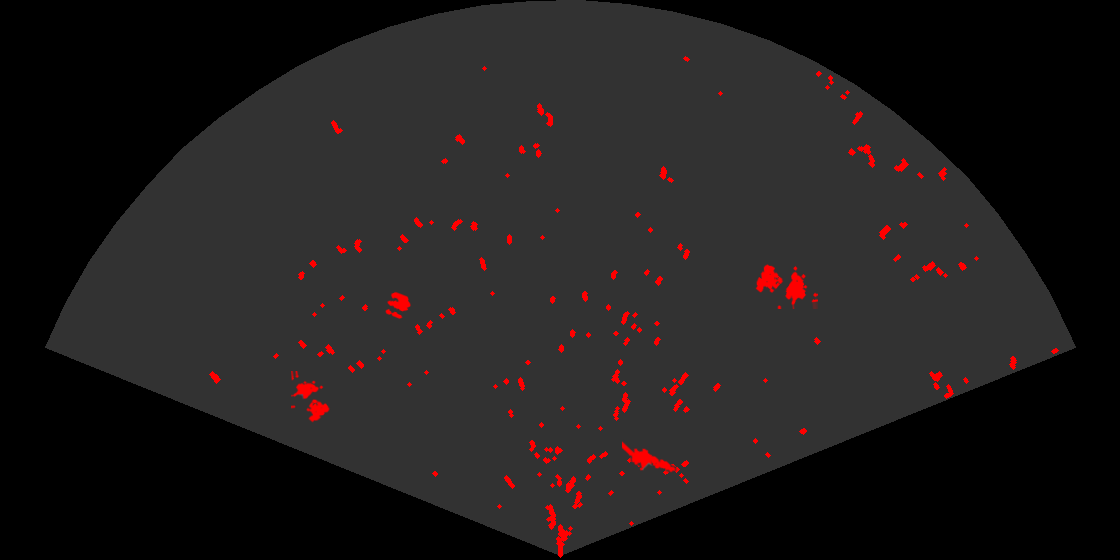ball: (384, 290, 412, 320)
cage: (754, 263, 818, 309), (291, 371, 331, 424)
frogman: (622, 439, 677, 474)
